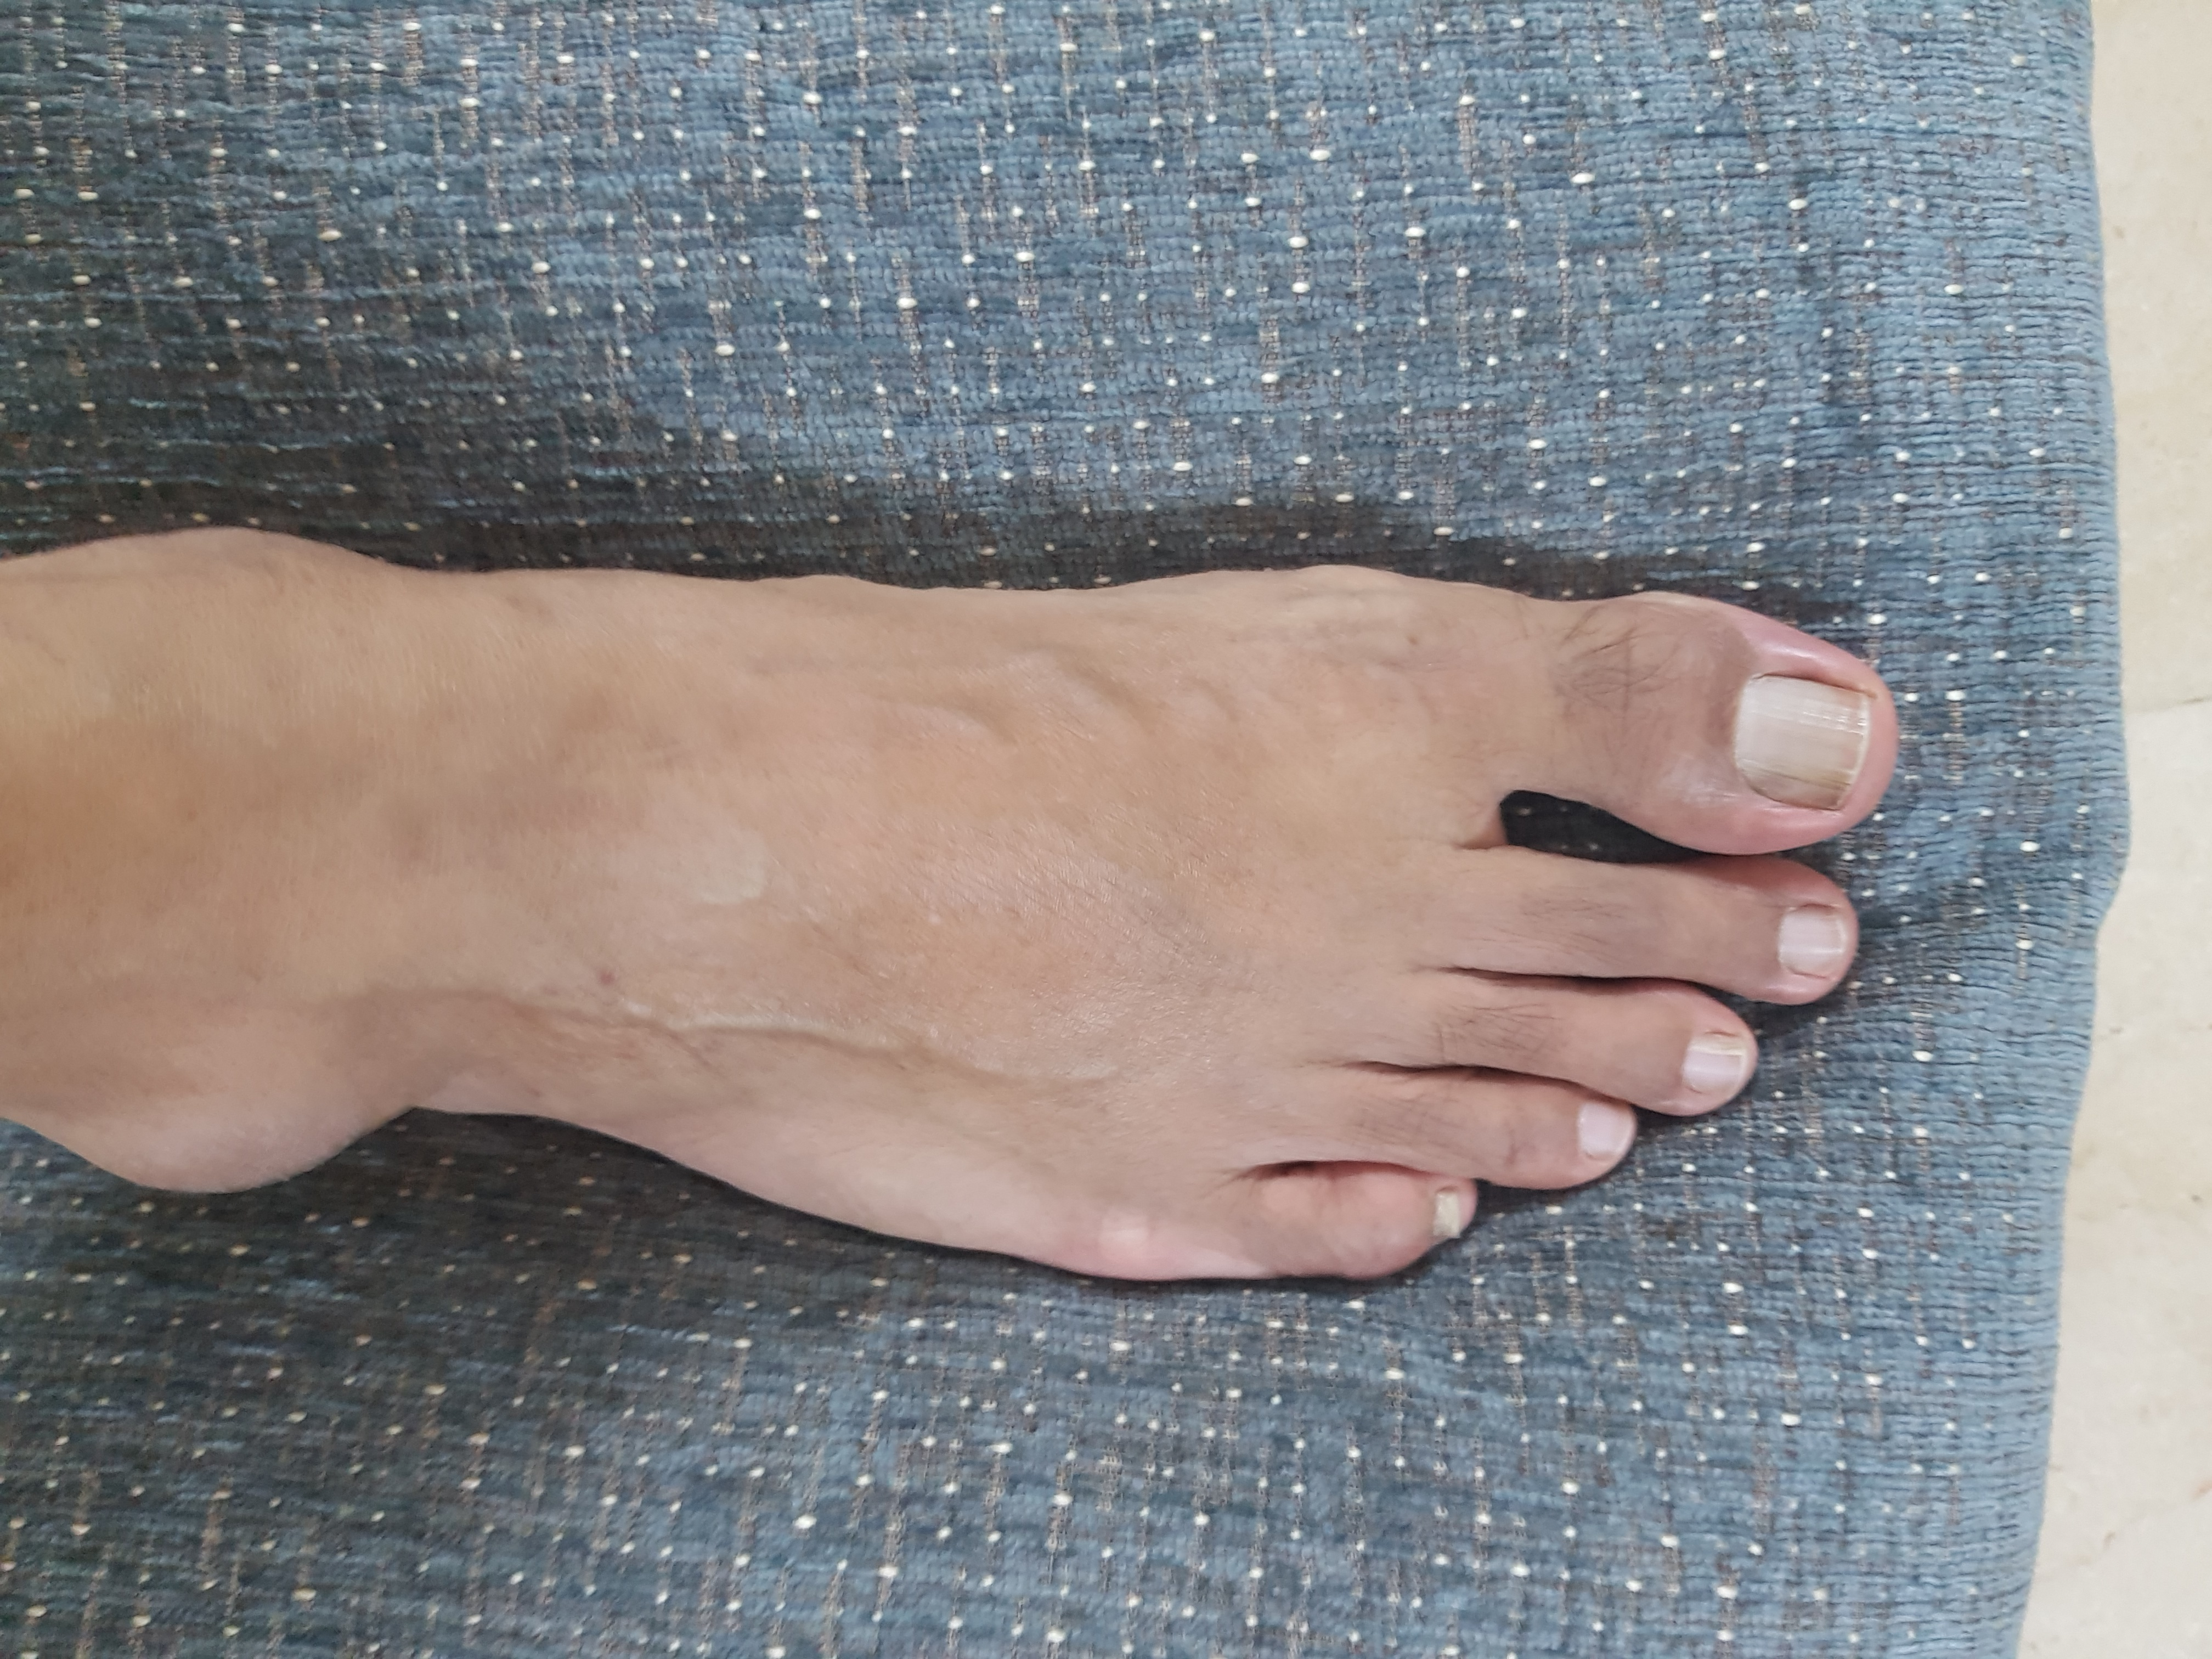feet: (16, 342, 1904, 1304)
